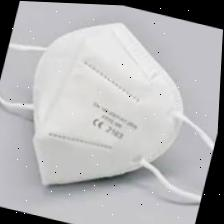mask: (4, 0, 214, 214)
